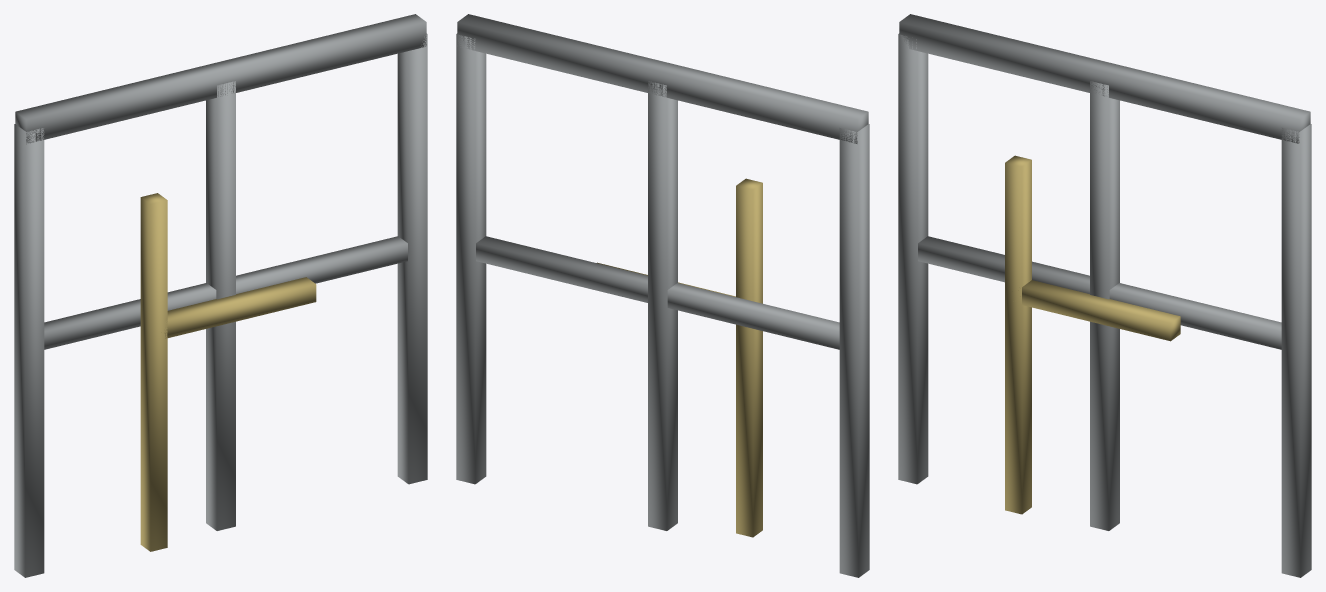
Rendered from residential_gate_l90_h100.glb.
3 renders of one model, left to right at view 1: azimuth 30°, elevation 25°; view 2: azimuth 150°, elevation 25°; view 3: azimuth 330°, elevation 25°, orthographic.
Parts seen in each view (by area): view 1: world; view 2: world; view 3: world.
Boxes of the visible parts, x1=… form: world: x1=14, y1=14, x2=427, y2=577; world: x1=456, y1=14, x2=869, y2=577; world: x1=898, y1=14, x2=1311, y2=577.
Size of the model in its own units: 0.945 by 1.03 by 0.0825.
